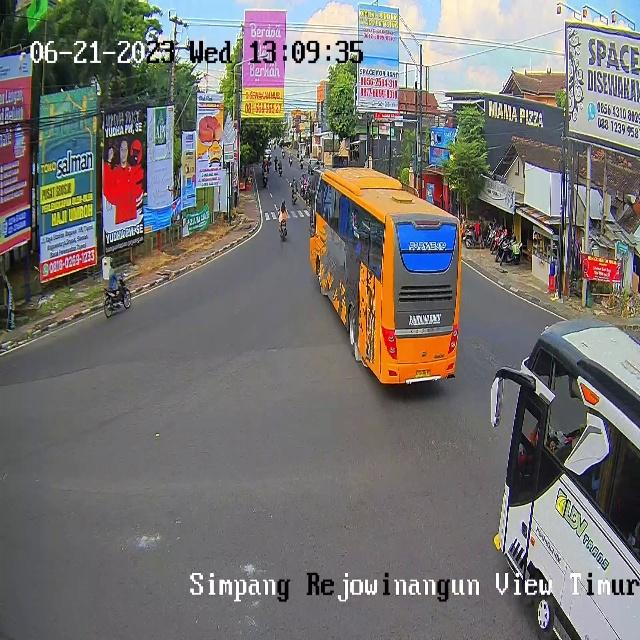bus: (104, 274, 132, 319), (280, 220, 288, 240), (291, 188, 297, 205), (302, 182, 308, 196), (263, 176, 268, 188)
car: (494, 319, 639, 640), (310, 167, 462, 385)
motorcycle: (308, 159, 320, 174)
